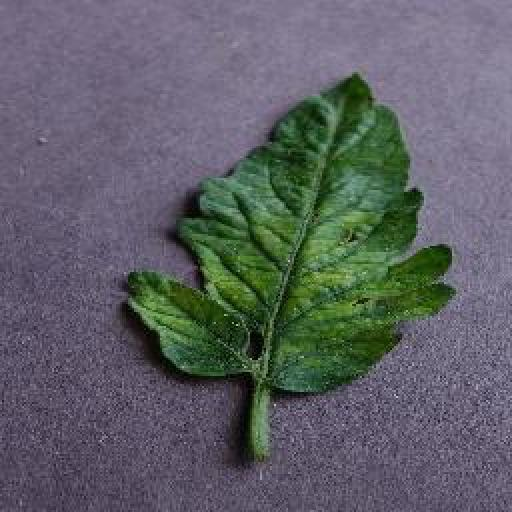Mosaic Virus: (119, 71, 457, 393)
